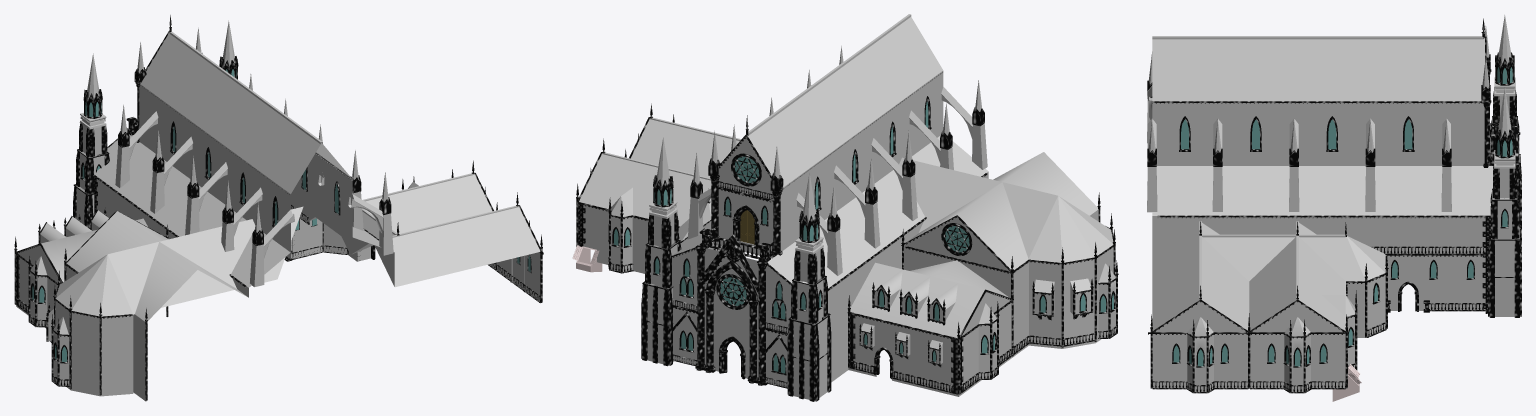
The model's file is cathedral_Ext (2).fbx.
3 renders of one model, left to right at view 1: azimuth 30°, elevation 25°; view 2: azimuth 150°, elevation 25°; view 3: azimuth 270°, elevation 25°, orthographic. The views are drawn at different scales.
Parts seen in each view (by area): view 1: MainCathedral, Library_wing, Kitchen_Wing; view 2: MainCathedral, Library_wing, Kitchen_Wing; view 3: MainCathedral, Kitchen_Wing.
Boxes of the visible parts, box(x1,y1,x2,y2) form: MainCathedral: box(73, 15, 393, 287); Library_wing: box(14, 177, 303, 401); Kitchen_Wing: box(284, 160, 543, 303); MainCathedral: box(641, 14, 988, 401); Library_wing: box(812, 152, 1118, 396); Kitchen_Wing: box(572, 103, 741, 273); MainCathedral: box(1147, 15, 1521, 317); Kitchen_Wing: box(1148, 216, 1511, 401).
Size of the model in its own units: 138 by 71.27 by 89.91.
